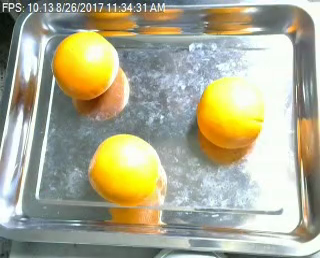Orange: (88, 132, 162, 206), (50, 30, 120, 101), (197, 76, 265, 149)
